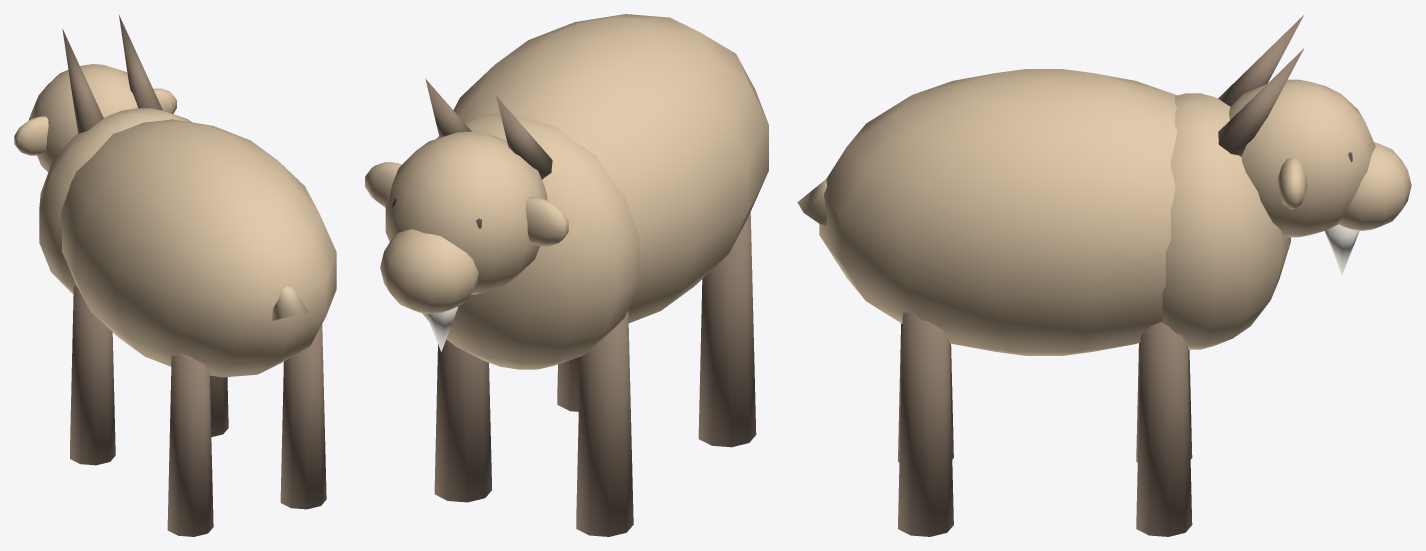
Rendered from goat.glb.
3 renders of one model, left to right at view 1: azimuth 30°, elevation 25°; view 2: azimuth 150°, elevation 25°; view 3: azimuth 270°, elevation 25°, orthographic. The views are drawn at different scales.
Parts seen in each view (by area): view 1: g_bodymesh, legBL, legBR, legFL, legFR; view 2: g_bodymesh, legFL, legBL, legFR, legBR; view 3: g_bodymesh, legBR, legFR.
Boxes of the visible parts, x1=… form: g_bodymesh: x1=14, y1=15, x2=336, y2=377; legBL: x1=167, y1=352, x2=213, y2=536; legBR: x1=280, y1=324, x2=326, y2=509; legFL: x1=70, y1=286, x2=115, y2=465; legFR: x1=210, y1=375, x2=228, y2=436; g_bodymesh: x1=365, y1=14, x2=768, y2=369; legFL: x1=576, y1=311, x2=633, y2=536; legBL: x1=698, y1=212, x2=756, y2=447; legFR: x1=434, y1=339, x2=491, y2=502; legBR: x1=557, y1=357, x2=579, y2=411; g_bodymesh: x1=797, y1=14, x2=1411, y2=355; legBR: x1=898, y1=312, x2=953, y2=536; legFR: x1=1136, y1=322, x2=1192, y2=536.
Size of the model in its own units: 0.5761 by 1.02 by 1.24.
